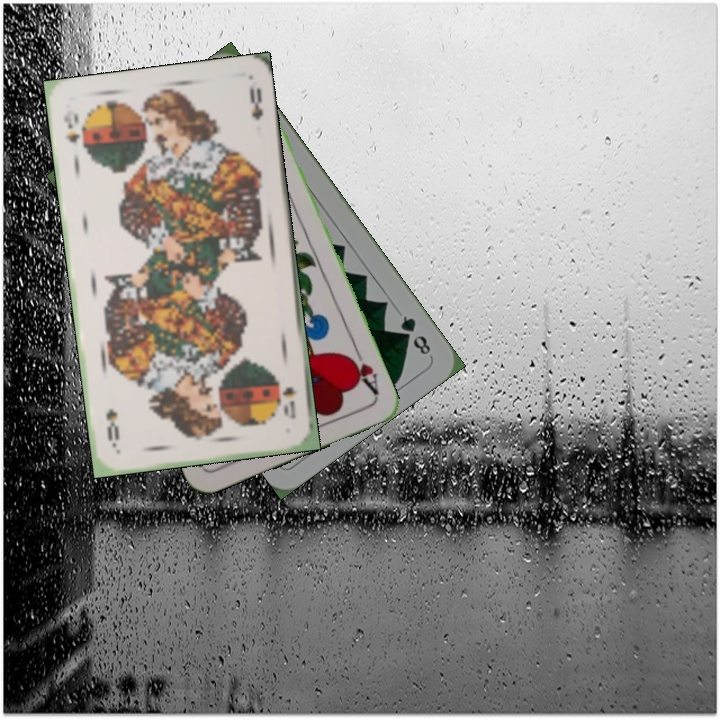G8: (396, 311, 434, 358)
HA: (343, 342, 381, 399)
SO: (59, 106, 86, 153), (278, 383, 300, 422)
